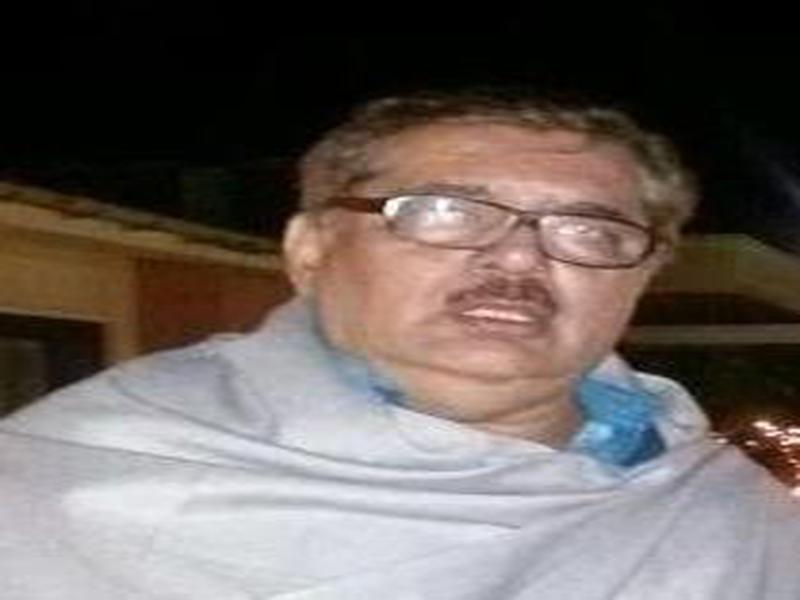without_mask: (336, 140, 642, 387)
